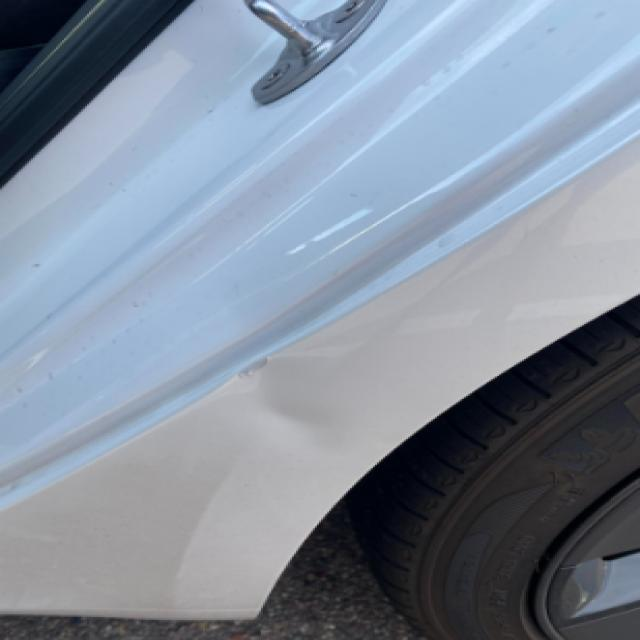dents: (220, 345, 359, 473)
